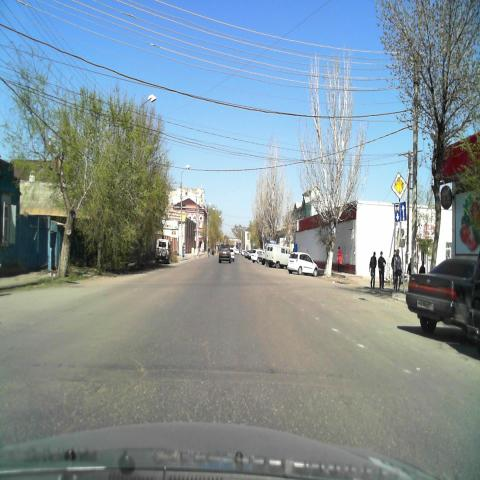5_11: (394, 200, 408, 224)
